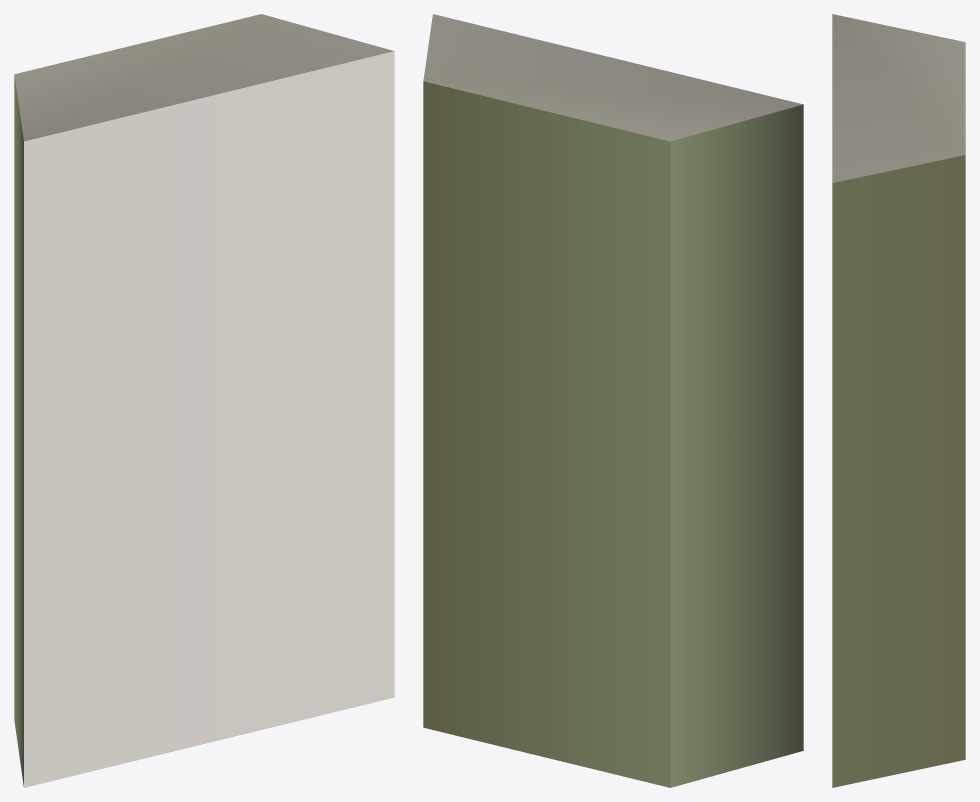
Rendered from wall-b-detail-painted.glb.
3 renders of one model, left to right at view 1: azimuth 30°, elevation 25°; view 2: azimuth 150°, elevation 25°; view 3: azimuth 270°, elevation 25°, orthographic. The views are drawn at different scales.
Visible parts, largest first — view 1: wall-b-detail-painted; view 2: wall-b-detail-painted; view 3: wall-b-detail-painted.
Part boxes in pixels (box(x1,y1,x2,y2)): wall-b-detail-painted: box(14, 14, 394, 787); wall-b-detail-painted: box(423, 14, 803, 787); wall-b-detail-painted: box(832, 14, 965, 787).
Bounding box in the file's own units: 0.6 × 1 × 0.2.
